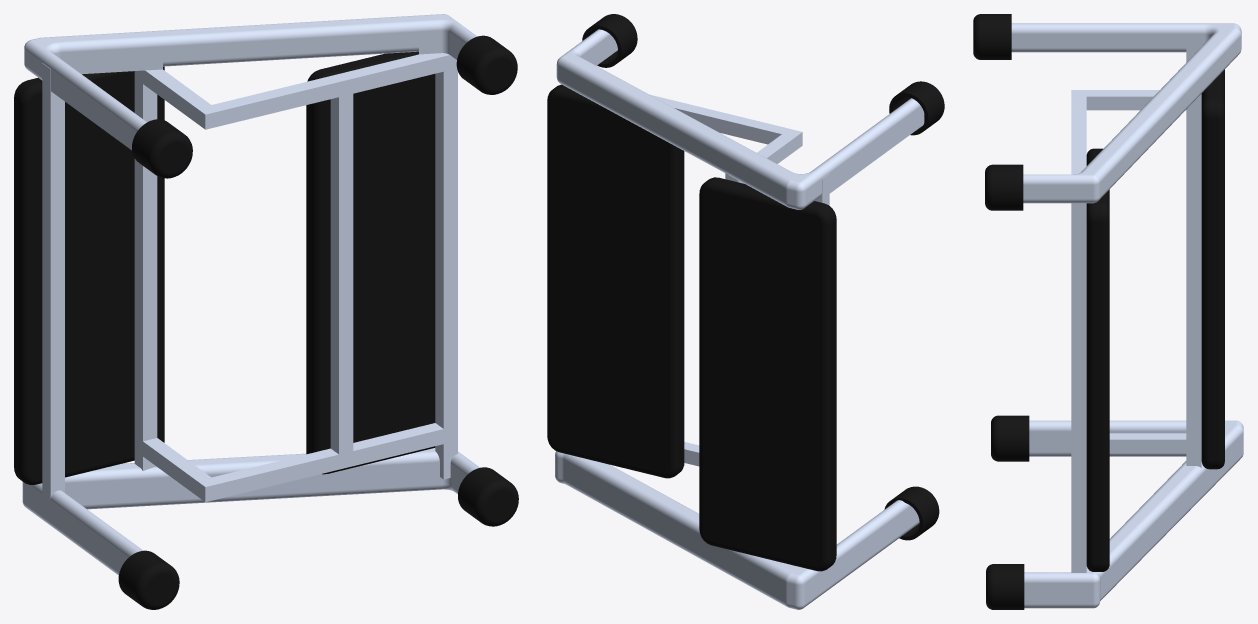
The model's file is silla.fbx.
3 views of the same model, side by side, from view 1: azimuth 30°, elevation 25°; view 2: azimuth 150°, elevation 25°; view 3: azimuth 270°, elevation 25° (orthographic). The views are drawn at different scales.
Parts seen in each view (by area): view 1: Fillet8, Fillet3 (×2), Fillet1 (×4); view 2: Fillet3 (×2), Fillet8, Fillet1 (×3); view 3: Fillet8, Fillet3 (×2), Fillet1 (×4).
Boxes of the visible parts, x1,y1,x2,y2 form: Fillet8: (22, 14, 479, 575); Fillet3 (×2): (14, 51, 435, 484); Fillet1 (×4): (118, 35, 518, 609); Fillet3 (×2): (547, 84, 836, 571); Fillet8: (555, 29, 924, 609); Fillet1 (×3): (582, 14, 944, 540); Fillet8: (1011, 23, 1243, 608); Fillet3 (×2): (1086, 69, 1224, 571); Fillet1 (×4): (973, 14, 1029, 609).
Bounding box in the file's own units: 2.08 × 2.52 × 1.39.
